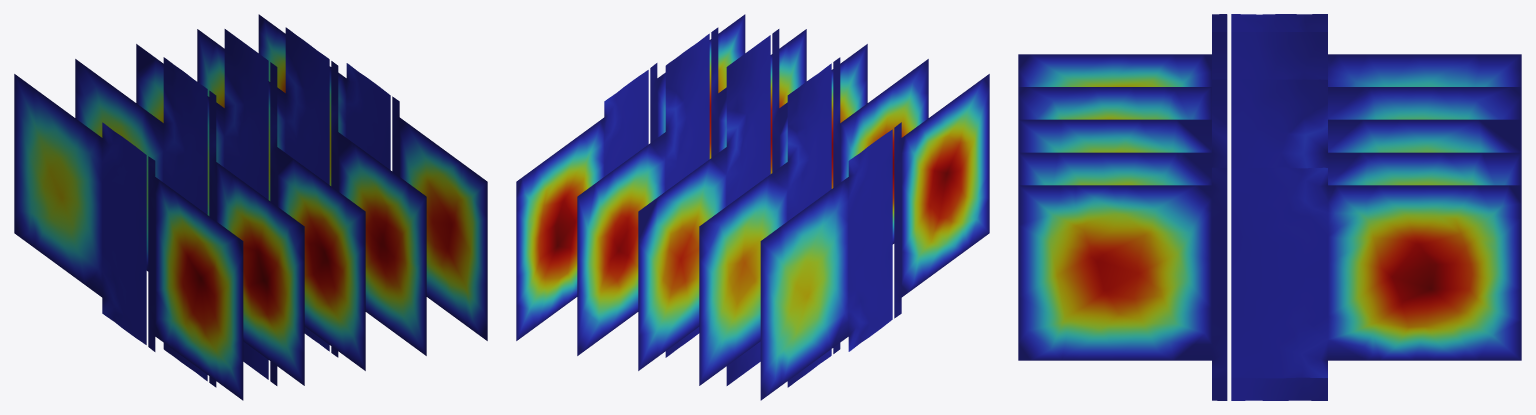
The model's file is VelocidadH2-O2_mh2-8.20_V-0.7.glb.
3 views of the same model, side by side, from view 1: azimuth 30°, elevation 25°; view 2: azimuth 150°, elevation 25°; view 3: azimuth 270°, elevation 25° (orthographic). The views are drawn at different scales.
Size of the model in its own units: 0.0008 by 0.001 by 0.0013.
2 materials, 2 textured.
